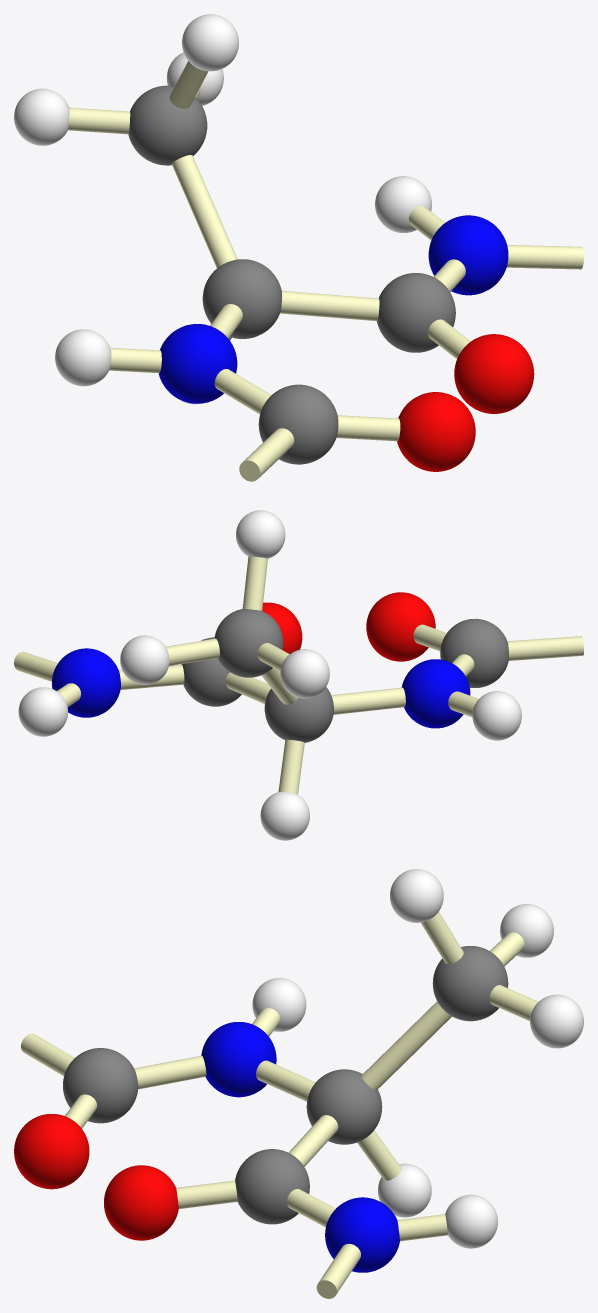
The model's file is conformation.gltf.
The picture shows the model from 3 angles, top to bottom: view 1: azimuth 30°, elevation 25°; view 2: azimuth 150°, elevation 25°; view 3: azimuth 270°, elevation 25°; orthographic projection. The views are drawn at different scales.
Parts seen in each view (by area): view 1: ?????????6, ?????????2, ?????????3, ?????????5, ?????????9, ?????????1, ?????????13, ?????????4, ?????????22, ?????????12, ?????????7, ?????????10 (+14 smaller); view 2: ?????????2, ?????????3, ?????????13, ?????????9, ?????????1, ?????????4, ?????????10, ?????????7, ?????????11, ?????????14, ?????????5, ?????????8 (+14 smaller); view 3: ?????????2, ?????????6, ?????????3, ?????????5, ?????????1, ?????????13, ?????????9, ?????????4, ?????????22, ?????????12, ?????????11, ?????????14 (+16 smaller).
Part boxes in pixels (<box>): ?????????6: <box>454,334,534,413</box>; ?????????2: <box>397,392,475,471</box>; ?????????3: <box>158,324,237,403</box>; ?????????5: <box>377,273,455,352</box>; ?????????9: <box>128,85,207,165</box>; ?????????1: <box>258,384,338,464</box>; ?????????13: <box>428,215,508,295</box>; ?????????4: <box>202,259,282,338</box>; ?????????22: <box>172,155,237,267</box>; ?????????12: <box>182,14,238,71</box>; ?????????7: <box>55,329,111,386</box>; ?????????10: <box>14,88,69,145</box>; ?????????2: <box>366,592,435,661</box>; ?????????3: <box>401,659,470,728</box>; ?????????13: <box>52,648,120,717</box>; ?????????9: <box>214,609,283,677</box>; ?????????1: <box>440,618,508,687</box>; ?????????4: <box>264,687,333,742</box>; ?????????10: <box>280,649,329,698</box>; ?????????7: <box>472,691,521,740</box>; ?????????11: <box>120,635,169,684</box>; ?????????14: <box>18,687,67,736</box>; ?????????5: <box>181,637,241,706</box>; ?????????8: <box>260,792,309,840</box>; ?????????2: <box>14,1114,89,1189</box>; ?????????6: <box>104,1165,178,1240</box>; ?????????3: <box>201,1022,276,1097</box>; ?????????5: <box>235,1149,309,1224</box>; ?????????1: <box>63,1048,138,1123</box>; ?????????13: <box>325,1197,399,1272</box>; ?????????9: <box>432,946,508,1021</box>; ?????????4: <box>306,1069,382,1144</box>; ?????????22: <box>361,1001,451,1090</box>; ?????????12: <box>390,869,443,922</box>; ?????????11: <box>530,994,583,1048</box>; ?????????14: <box>445,1194,497,1248</box>.
Size of the model in its own units: 55.68 by 36.15 by 52.85.
